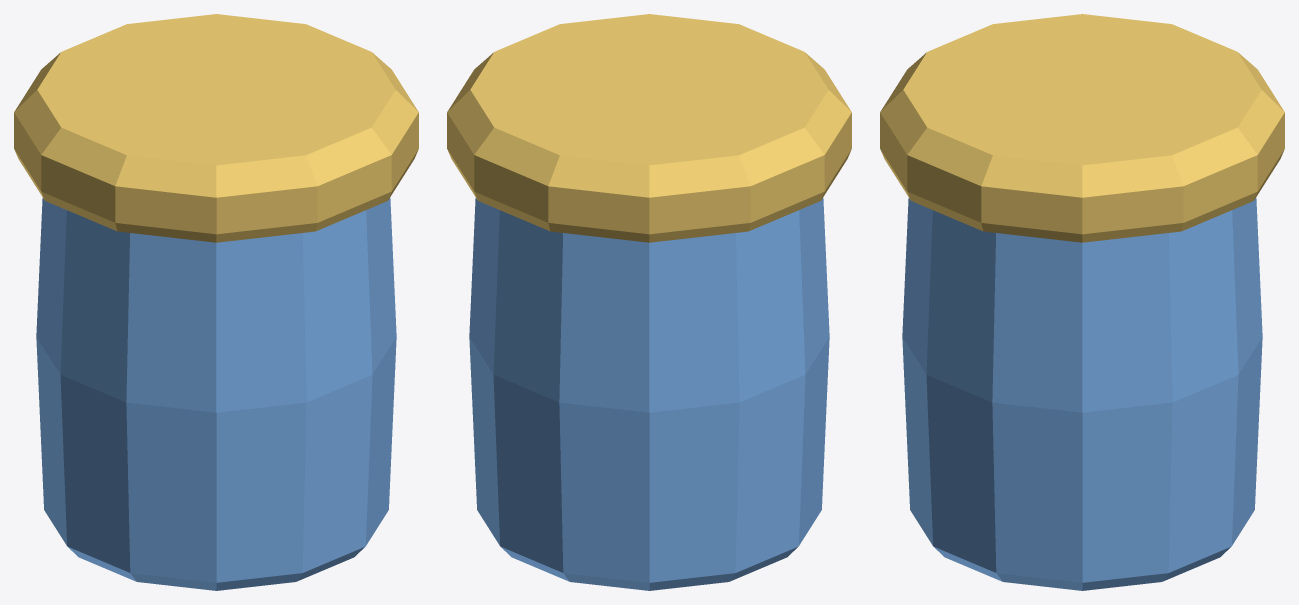
Rendered from Pot_23.fbx.
The picture shows the model from 3 angles, left to right: view 1: azimuth 30°, elevation 25°; view 2: azimuth 150°, elevation 25°; view 3: azimuth 270°, elevation 25°; orthographic projection.
Parts seen in each view (by area): view 1: Pot_23; view 2: Pot_23; view 3: Pot_23.
Boxes of the visible parts, x1,y1,x2,y2 form: Pot_23: [14, 14, 418, 590]; Pot_23: [447, 14, 851, 590]; Pot_23: [880, 14, 1284, 590].
Bounding box in the file's own units: 0.1431 × 0.1693 × 0.1431.
